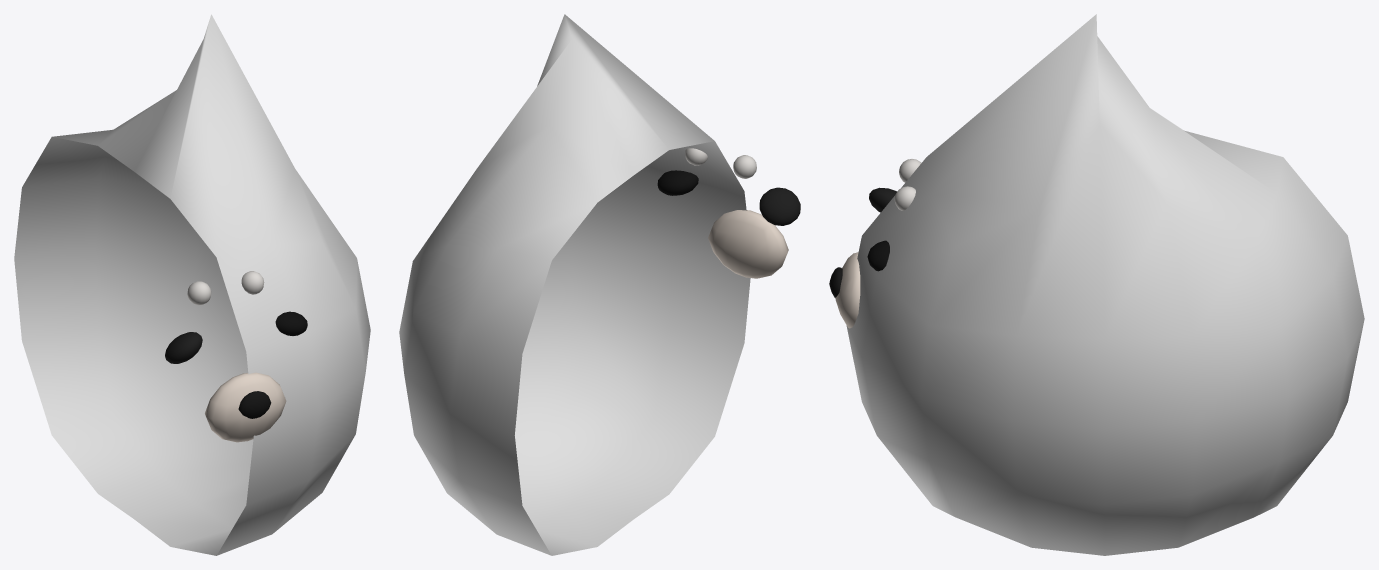
The model's file is dog_black.glb.
The picture shows the model from 3 angles, left to right: view 1: azimuth 30°, elevation 25°; view 2: azimuth 150°, elevation 25°; view 3: azimuth 270°, elevation 25°; orthographic projection. The views are drawn at different scales.
Parts seen in each view (by area): view 1: Roundcube, Roundcube.001, Roundcube.002, Roundcube.006, Roundcube.003, Roundcube.005; view 2: Roundcube, Roundcube.001, Roundcube.002, Roundcube.003; view 3: Roundcube, Roundcube.001.
Part boxes in pixels (bbox=[...]): Roundcube: bbox=[14, 14, 370, 555]; Roundcube.001: bbox=[205, 372, 286, 442]; Roundcube.002: bbox=[165, 332, 202, 363]; Roundcube.006: bbox=[238, 391, 271, 418]; Roundcube.003: bbox=[275, 311, 307, 335]; Roundcube.005: bbox=[187, 281, 211, 305]; Roundcube: bbox=[399, 14, 750, 555]; Roundcube.001: bbox=[708, 210, 788, 278]; Roundcube.002: bbox=[759, 187, 800, 225]; Roundcube.003: bbox=[657, 170, 698, 195]; Roundcube: bbox=[846, 14, 1364, 555]; Roundcube.001: bbox=[835, 252, 860, 328].
Size of the model in its own units: 0.4204 by 0.7201 by 0.6566.
